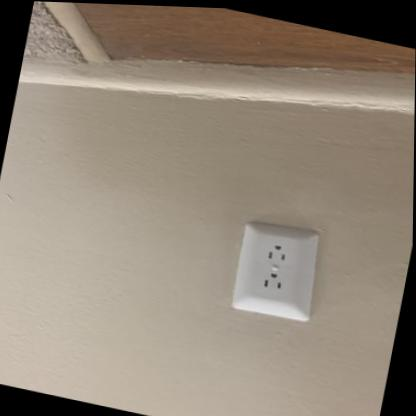OUTLET: (228, 217, 326, 326)
